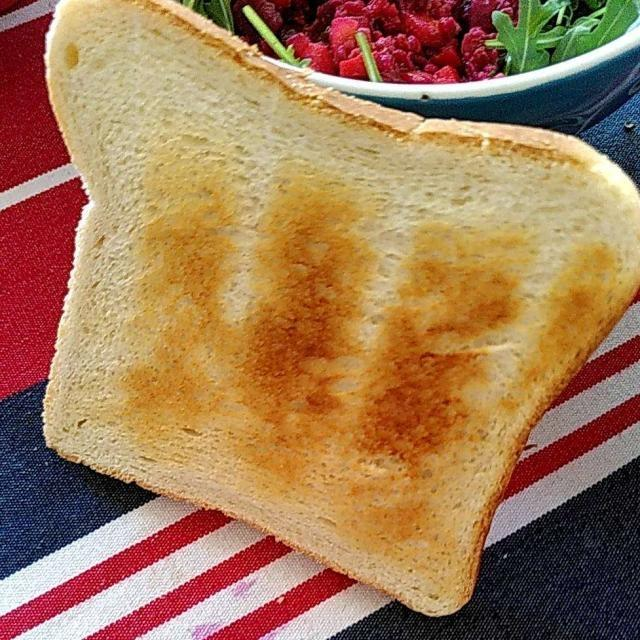bread: (48, 6, 627, 606)
